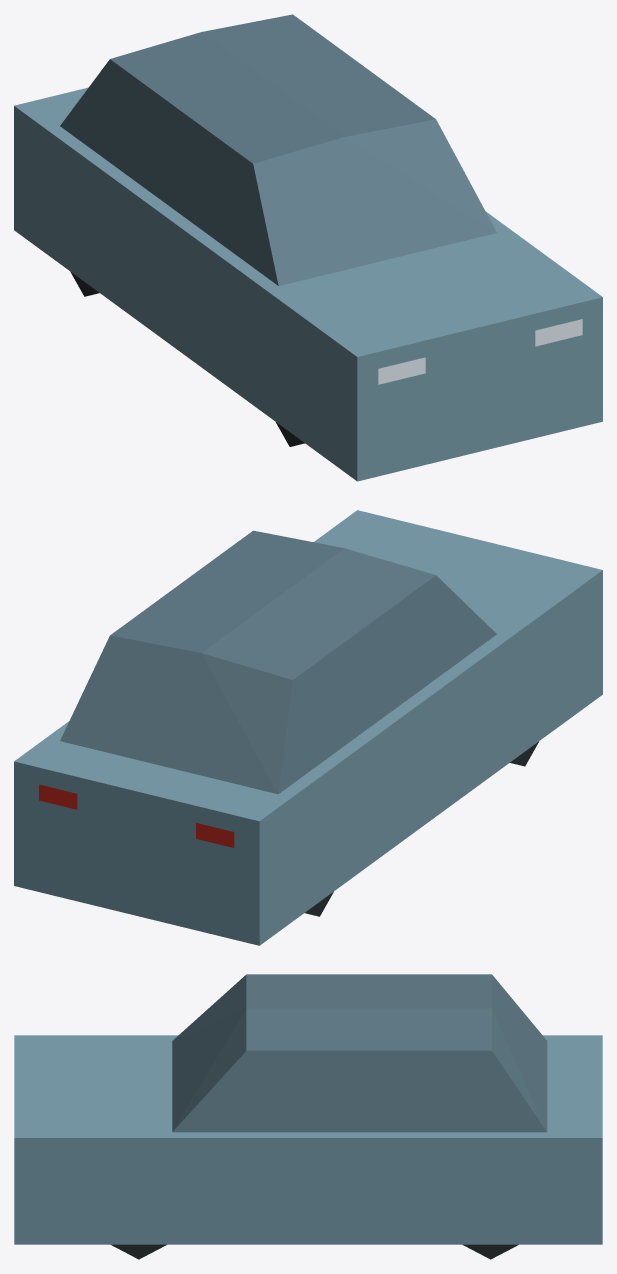
File: traffic-suv.lod2.glb
3 renders of one model, top to bottom at view 1: azimuth 30°, elevation 25°; view 2: azimuth 150°, elevation 25°; view 3: azimuth 270°, elevation 25°, orthographic. The views are drawn at different scales.
Visible parts, largest first — view 1: body-shell, glass; view 2: body-shell, glass; view 3: body-shell, glass, trim.
Boxes of the visible parts, x1=… form: body-shell: x1=14, y1=87, x2=602, y2=481; glass: x1=60, y1=14, x2=582, y2=384; body-shell: x1=14, y1=510, x2=602, y2=945; glass: x1=39, y1=530, x2=496, y2=847; body-shell: x1=14, y1=1035, x2=602, y2=1244; glass: x1=172, y1=974, x2=547, y2=1132; trim: x1=111, y1=1244, x2=518, y2=1259.
Bounding box in the file's own units: 1.92 × 1.76 × 4.65.
